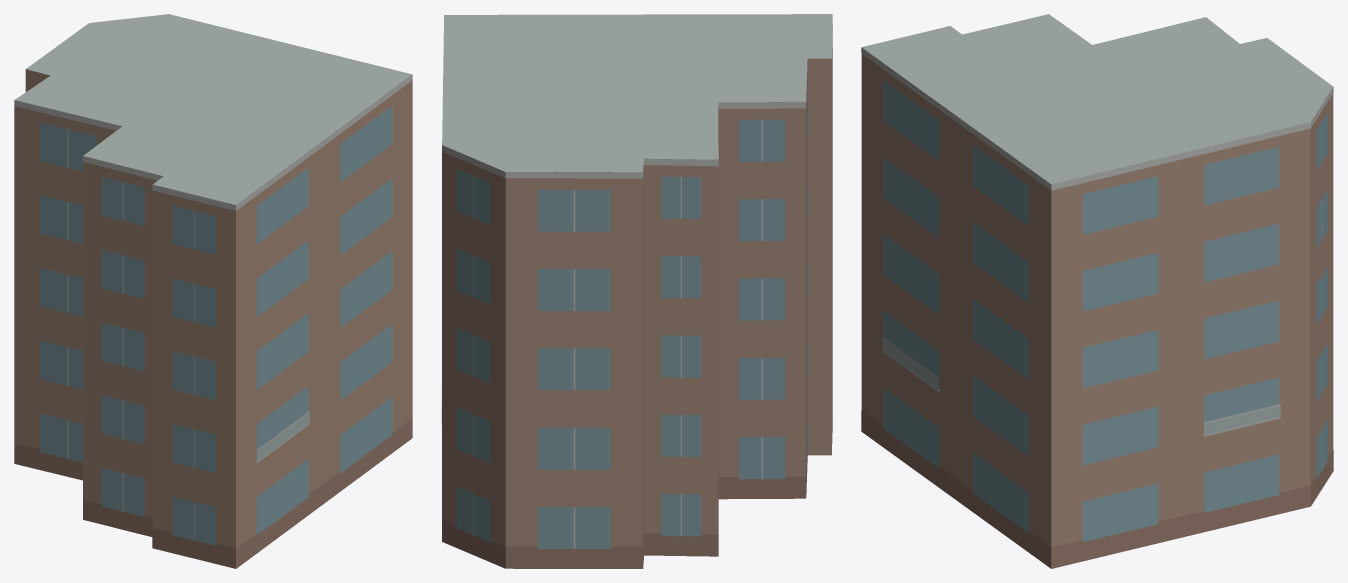
Rendered from survey-upis-32761089.glb.
3 views of the same model, side by side, from view 1: azimuth 30°, elevation 25°; view 2: azimuth 150°, elevation 25°; view 3: azimuth 270°, elevation 25° (orthographic). The views are drawn at different scales.
Visible parts, largest first — view 1: survey-upis-32761089.tmp; view 2: survey-upis-32761089.tmp; view 3: survey-upis-32761089.tmp.
Boxes of the visible parts, <box> form: survey-upis-32761089.tmp: <box>14,14,412,568</box>; survey-upis-32761089.tmp: <box>441,14,832,568</box>; survey-upis-32761089.tmp: <box>861,14,1333,568</box>.
Bounding box in the file's own units: 14.38 × 15.1 × 16.82.
